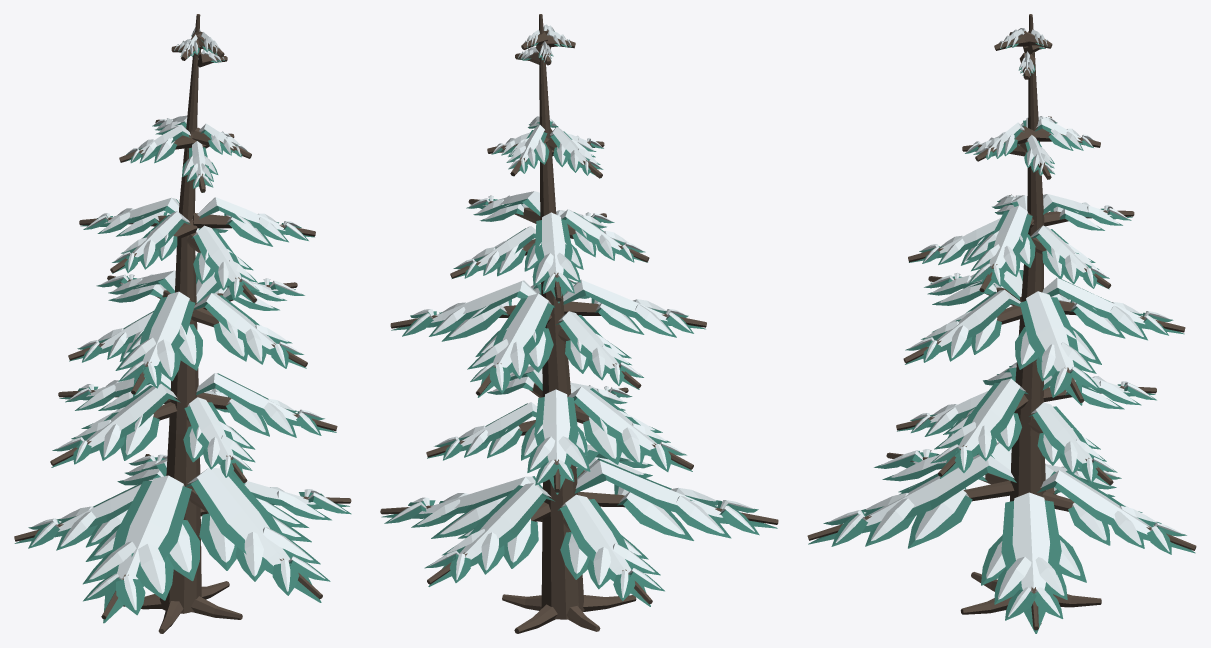
The model's file is TREE_03_PineSmallSnowy.glb.
3 renders of one model, left to right at view 1: azimuth 30°, elevation 25°; view 2: azimuth 150°, elevation 25°; view 3: azimuth 270°, elevation 25°, orthographic. The views are drawn at different scales.
Visible parts, largest first — view 1: TREE_03_PineSmallSnowy; view 2: TREE_03_PineSmallSnowy; view 3: TREE_03_PineSmallSnowy.
Boxes of the visible parts, box(x1,y1,x2,y2) form: TREE_03_PineSmallSnowy: box(14, 14, 351, 633); TREE_03_PineSmallSnowy: box(380, 14, 778, 633); TREE_03_PineSmallSnowy: box(807, 14, 1196, 633).
Bounding box in the file's own units: 2.41 × 4.22 × 2.48.
